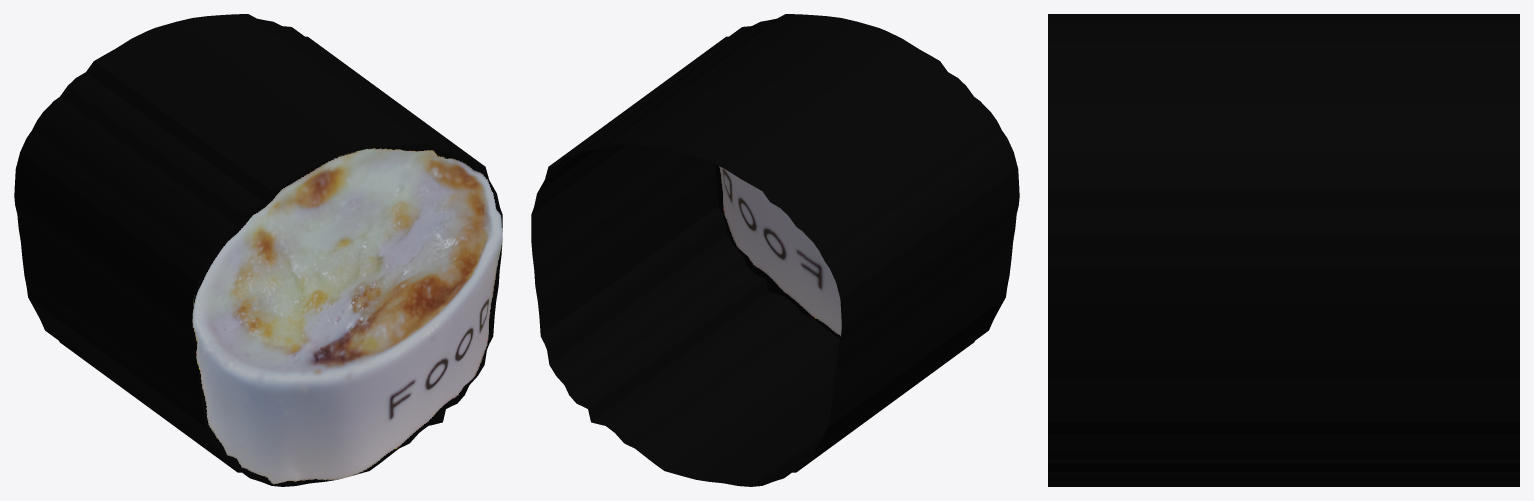
File: acc2.glb
3 views of the same model, side by side, from view 1: azimuth 30°, elevation 25°; view 2: azimuth 150°, elevation 25°; view 3: azimuth 270°, elevation 25° (orthographic). The views are drawn at different scales.
Parts seen in each view (by area): view 1: Plane; view 2: Plane; view 3: Plane.
Boxes of the visible parts, box(x1,y1,x2,y2) form: Plane: box(14, 14, 502, 486); Plane: box(531, 14, 1019, 486); Plane: box(1048, 14, 1519, 486).
Bounding box in the file's own units: 1.01 × 1.01 × 1.
Materials: 1 (1 with a texture image).
